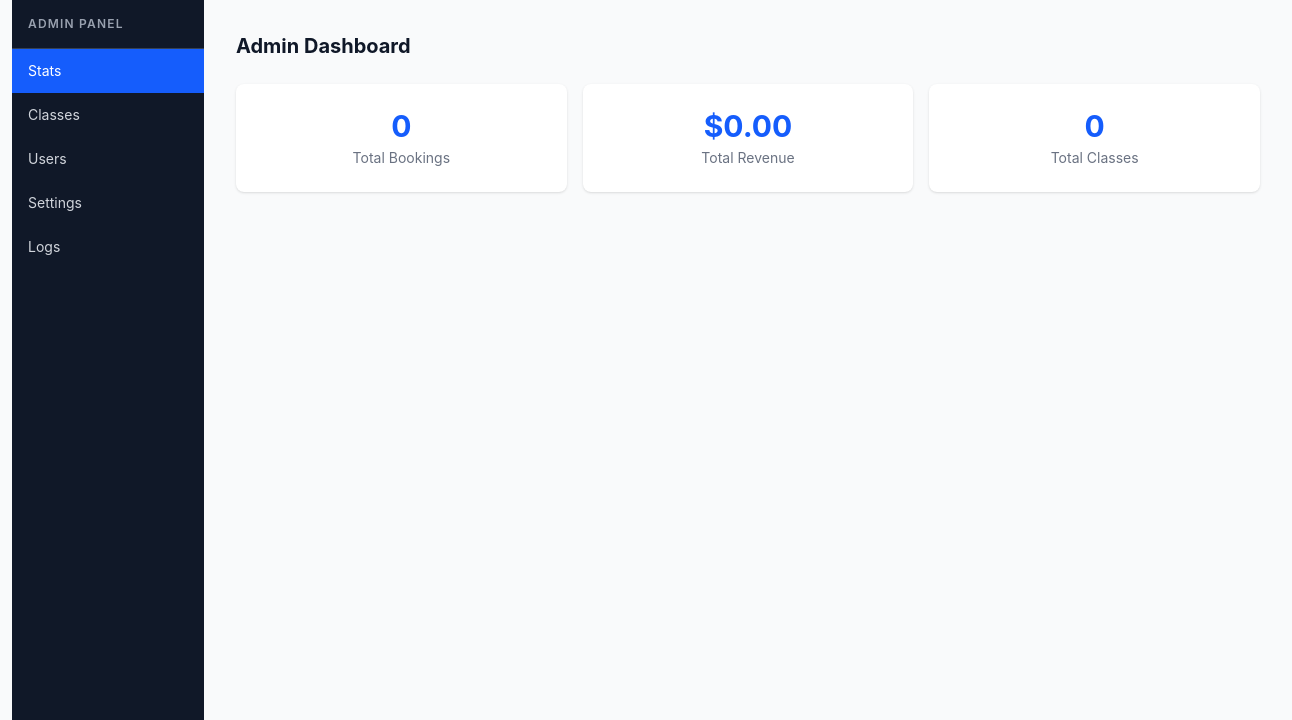
Scenario: Admin Users tab – search › filters users by name (case-insensitive)
Step 1. Click the button "Users" → point(108, 159), box x1=12 y1=137 x2=204 y2=181
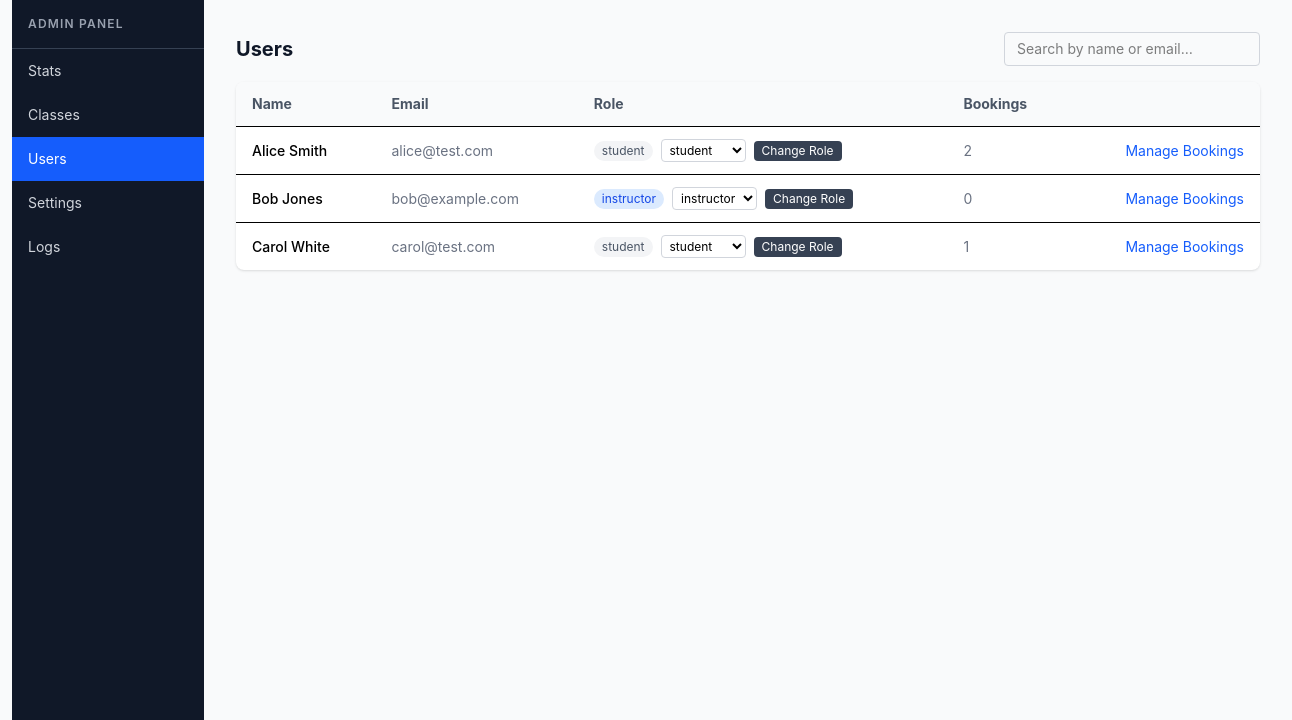
Expected: the text "Alice Smith" is shown, x1=236 y1=126 x2=376 y2=174
Step 2. Type "alice" into the field named "search users" → point(1132, 49), box x1=1004 y1=32 x2=1260 y2=66
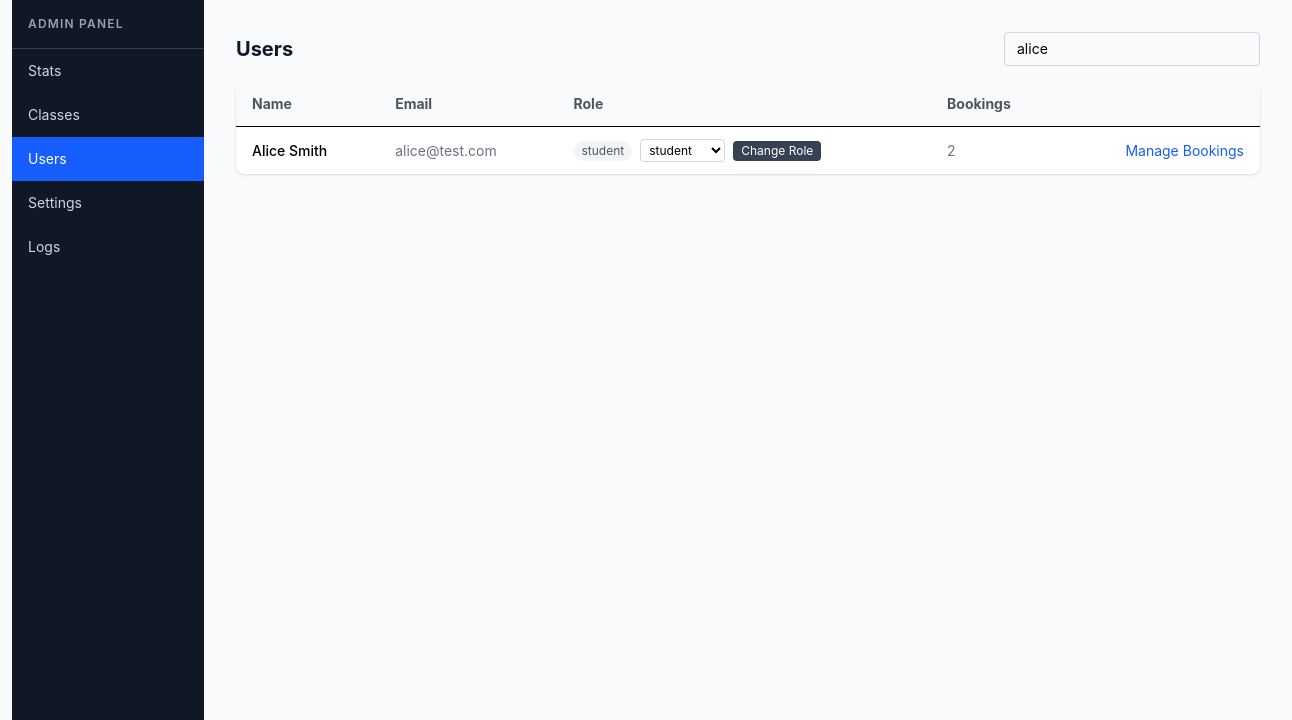
Expected: the text "Alice Smith" is shown, x1=236 y1=126 x2=379 y2=174
Expected: the text "Bob Jones" is gone
Expected: the text "Carol White" is gone
